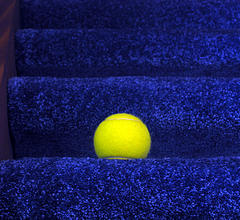tennis ball: (92, 111, 152, 162)
